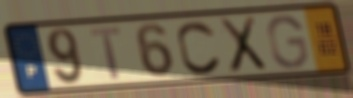6: (133, 21, 175, 80)
9: (47, 26, 88, 87)
C: (175, 19, 224, 77)
G: (264, 13, 310, 71)
T: (87, 25, 124, 82)
X: (216, 14, 270, 76)
